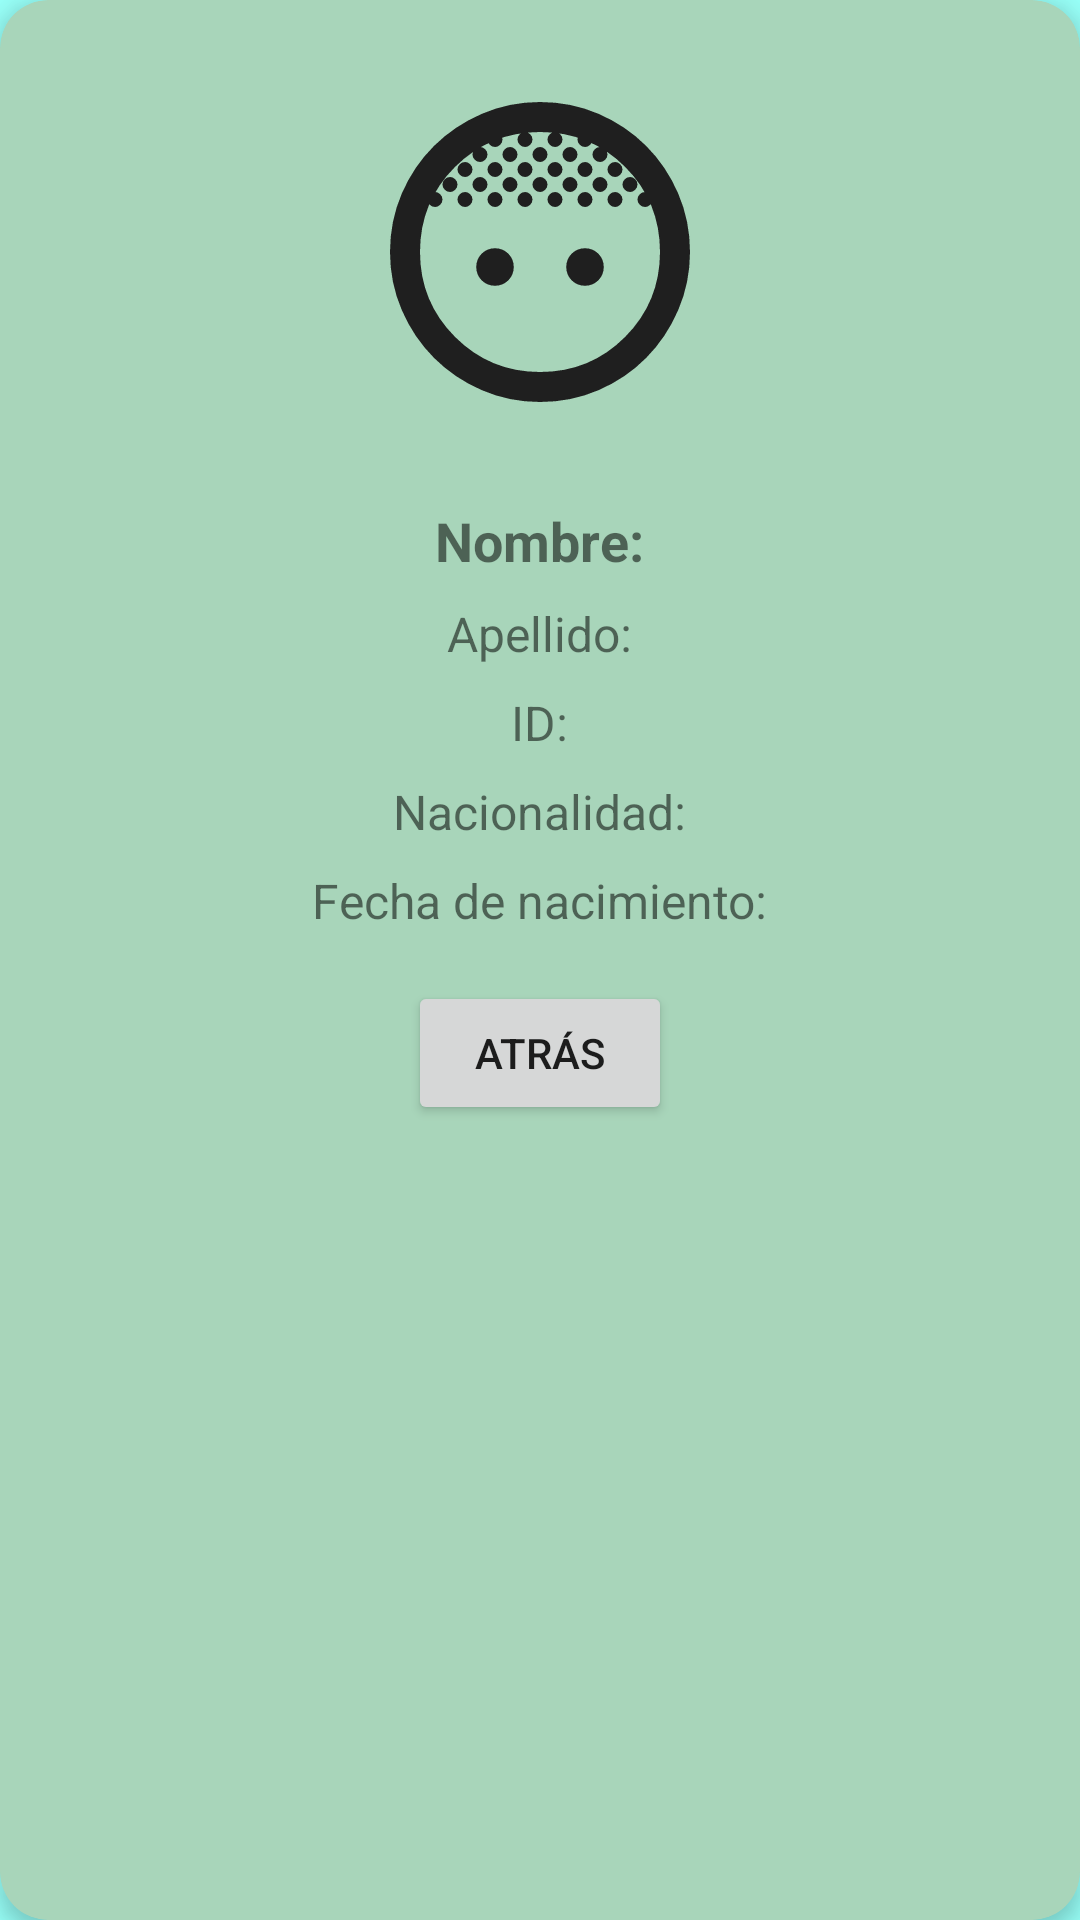

Icons on this 1080 x 1920 Android screen, each with the point to tap as [x,y]:
Profile picture: [540,252]
